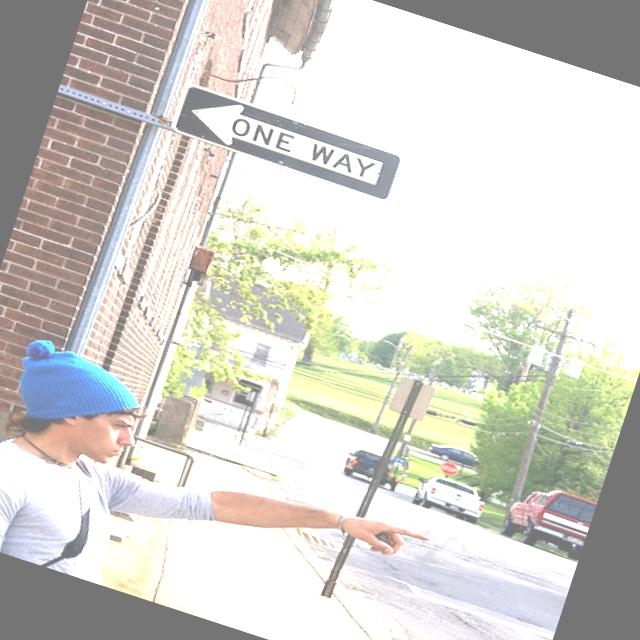Vehicle: (497, 476, 597, 565), (498, 476, 598, 560), (411, 470, 488, 526), (410, 471, 488, 525), (342, 446, 404, 492), (427, 438, 482, 471)
